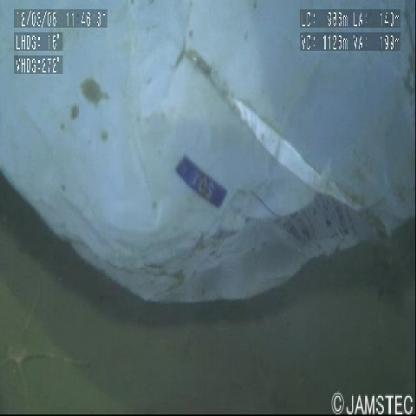Rác: (1, 3, 416, 317)
